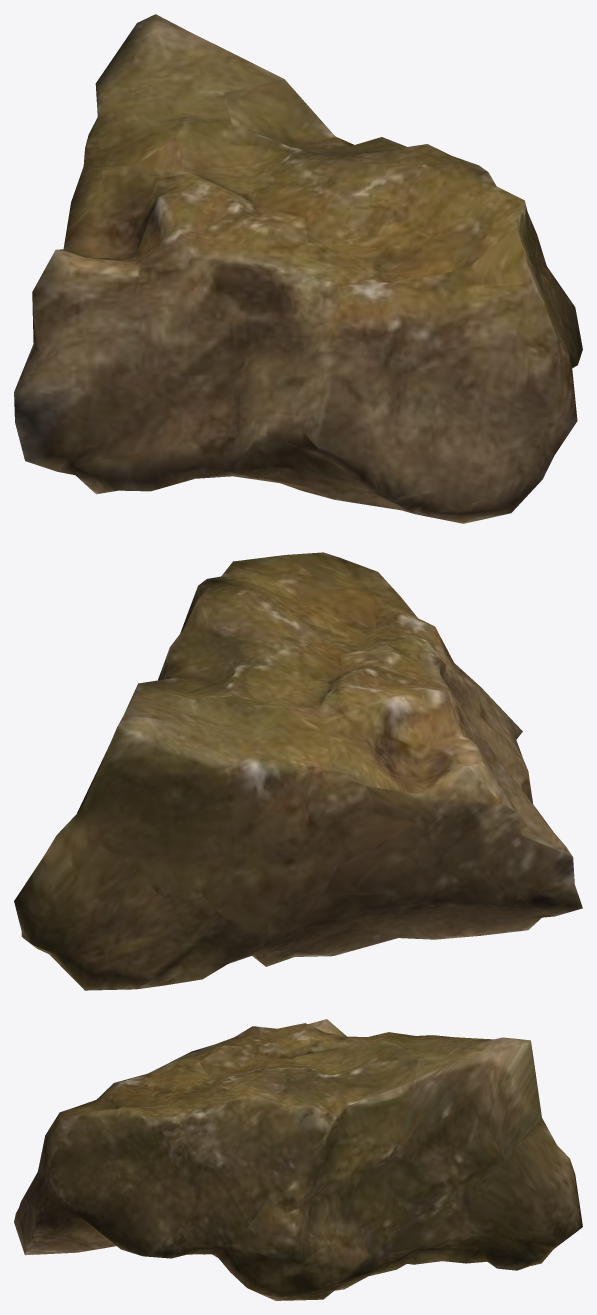
Rendered from rocks_6.gltf.
3 renders of one model, top to bottom at view 1: azimuth 30°, elevation 25°; view 2: azimuth 150°, elevation 25°; view 3: azimuth 270°, elevation 25°, orthographic. The views are drawn at different scales.
Parts seen in each view (by area): view 1: rock_moss_set_01_rock06; view 2: rock_moss_set_01_rock06; view 3: rock_moss_set_01_rock06.
Part boxes in pixels (x1,y1,x2,y2): rock_moss_set_01_rock06: (14, 14, 582, 523); rock_moss_set_01_rock06: (14, 552, 582, 990); rock_moss_set_01_rock06: (14, 1019, 582, 1300).
Size of the model in its own units: 2.12 by 1.25 by 2.76.
1 material, 1 textured.
